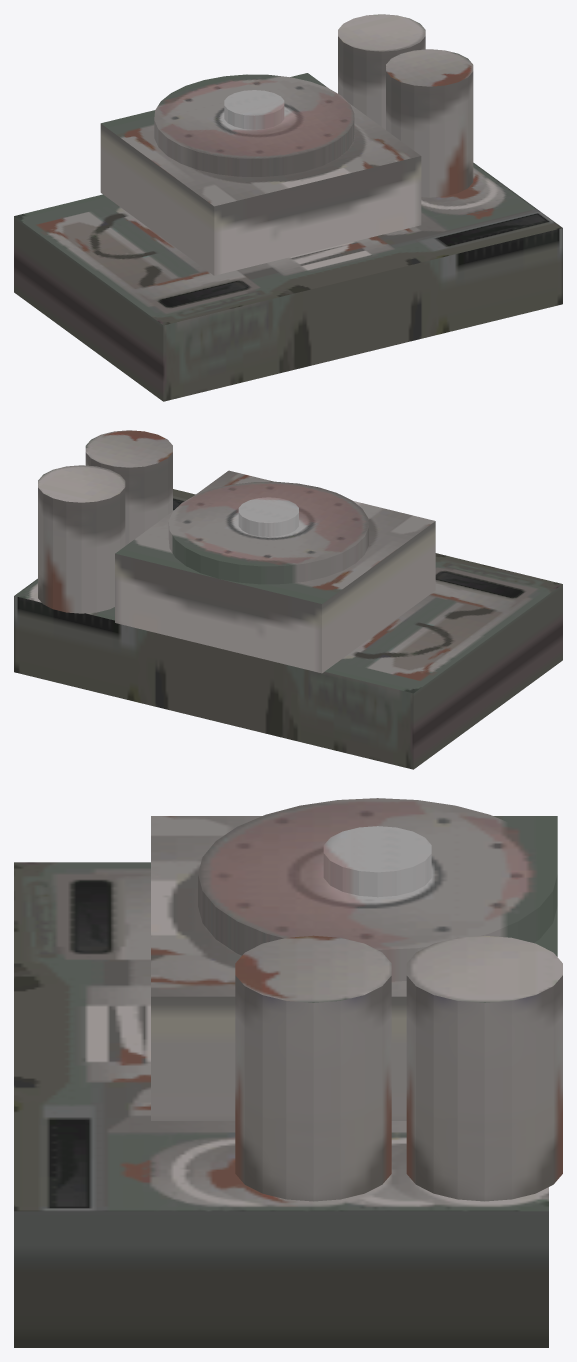
The model's file is Building_AncientMechGestator.glb.
The picture shows the model from 3 angles, top to bottom: view 1: azimuth 30°, elevation 25°; view 2: azimuth 150°, elevation 25°; view 3: azimuth 270°, elevation 25°; orthographic projection. The views are drawn at different scales.
Parts seen in each view (by area): view 1: AncientMechGestator; view 2: AncientMechGestator; view 3: AncientMechGestator.
Boxes of the visible parts, <box> form: AncientMechGestator: <box>14,14,562,401</box>; AncientMechGestator: <box>14,430,562,769</box>; AncientMechGestator: <box>14,798,562,1347</box>.
Bounding box in the file's own units: 3.02 × 1.35 × 2.
1 material, 1 textured.
